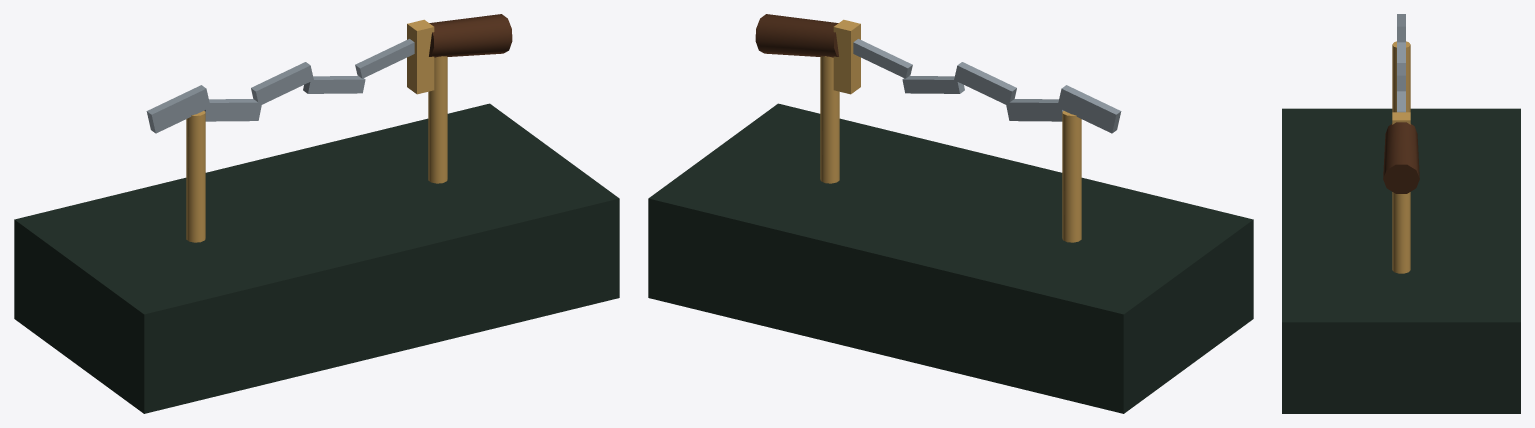
File: weapon-keris-nusantara.glb
The picture shows the model from 3 angles, left to right: view 1: azimuth 30°, elevation 25°; view 2: azimuth 150°, elevation 25°; view 3: azimuth 270°, elevation 25°; orthographic projection. The views are drawn at different scales.
Bounding box in the file's own units: 1.1 × 0.57 × 0.52.
